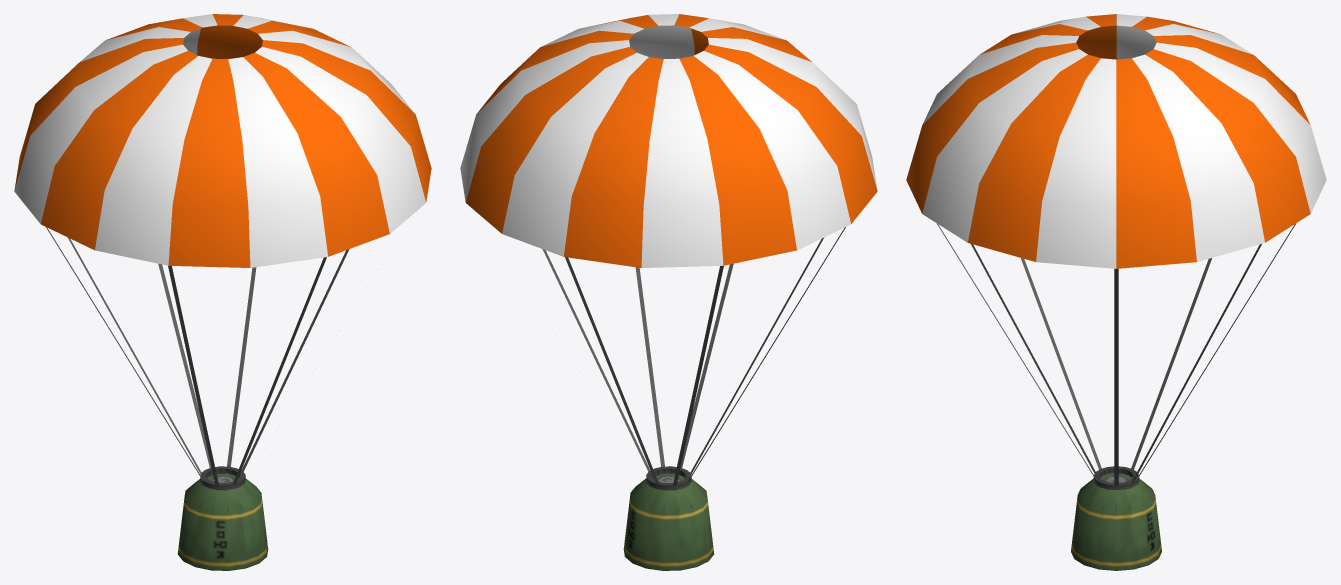
The model's file is soyuz_capsule.obj.
The picture shows the model from 3 angles, left to right: view 1: azimuth 30°, elevation 25°; view 2: azimuth 150°, elevation 25°; view 3: azimuth 270°, elevation 25°; orthographic projection.
Parts seen in each view (by area): view 1: Chute, Capsule; view 2: Chute, Capsule; view 3: Chute, Capsule.
Boxes of the visible parts, x1,y1,x2,y2 form: Chute: (14,14,431,485); Capsule: (177,466,268,570); Chute: (460,14,877,485); Capsule: (623,466,714,570); Chute: (906,14,1326,485); Capsule: (1071,466,1161,570).
Bounding box in the file's own units: 10 × 13.61 × 10.
